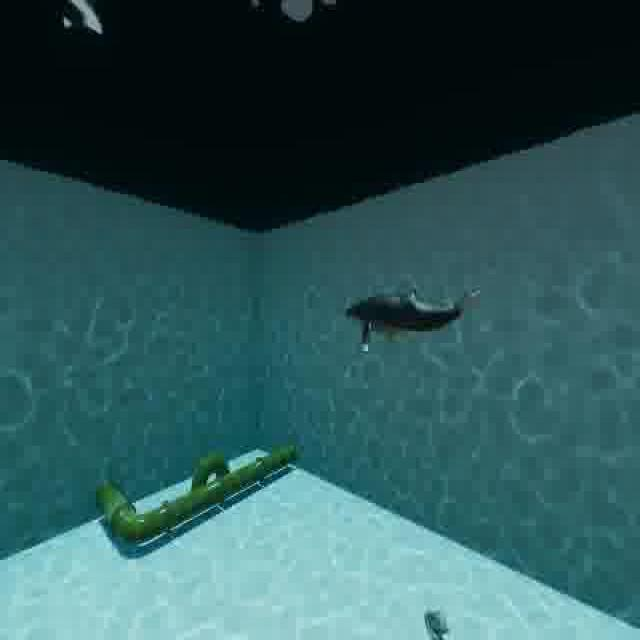Pipe: (84, 426, 318, 558)
Shell: (414, 593, 465, 640)
Whale: (336, 263, 498, 364)
